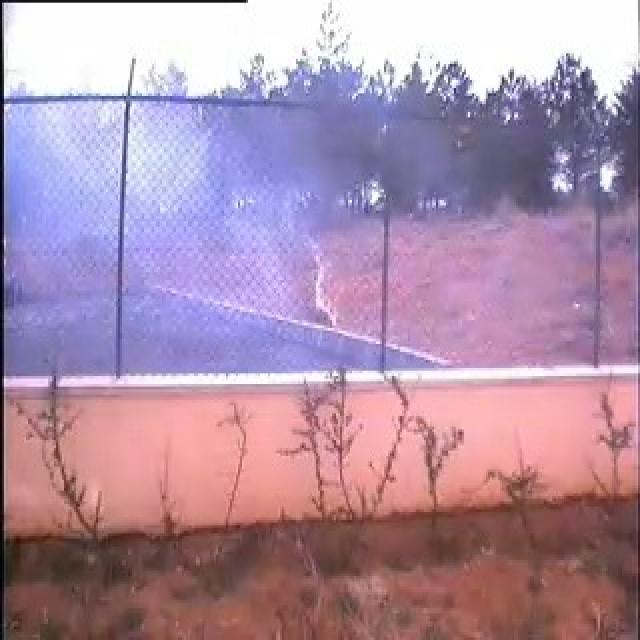smoke: (48, 95, 272, 372)
